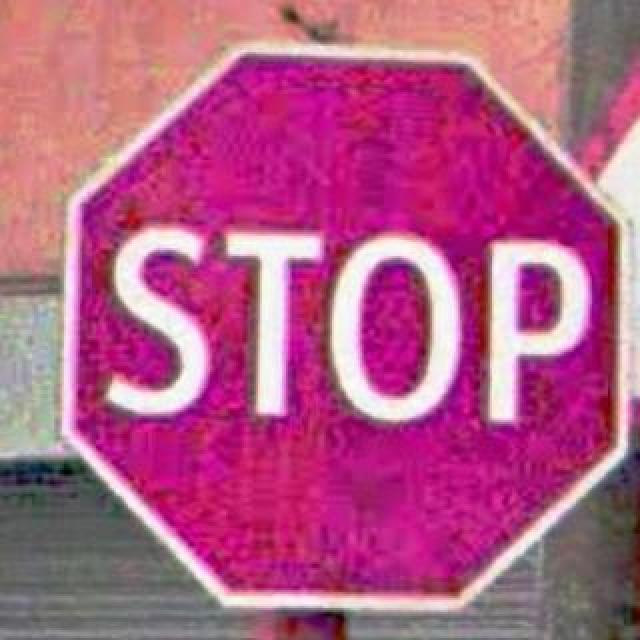stop: (62, 38, 624, 614)
